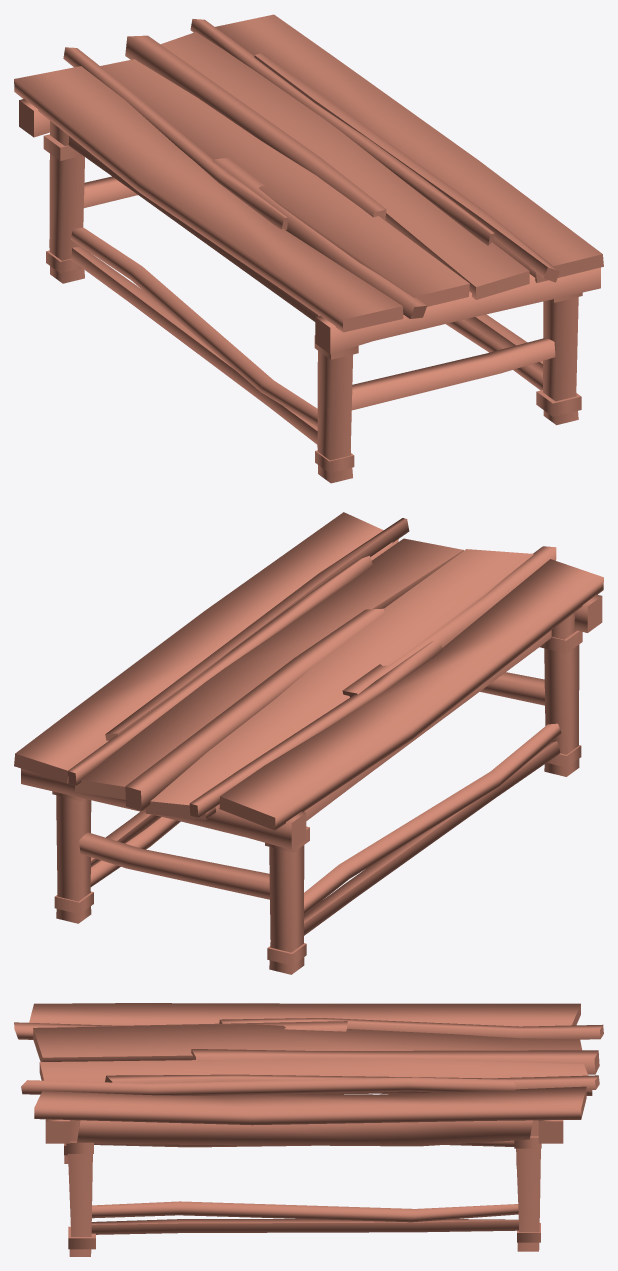
Rendered from table.fbx.
3 renders of one model, top to bottom at view 1: azimuth 30°, elevation 25°; view 2: azimuth 150°, elevation 25°; view 3: azimuth 270°, elevation 25°, orthographic. The views are drawn at different scales.
Visible parts, largest first — view 1: Plane.047; view 2: Plane.047; view 3: Plane.047.
Part boxes in pixels (bbox=[...]): Plane.047: bbox=[14, 14, 603, 483]; Plane.047: bbox=[14, 512, 603, 974]; Plane.047: bbox=[14, 1003, 603, 1256].
Size of the model in its own units: 1.36 by 0.8796 by 3.03.
